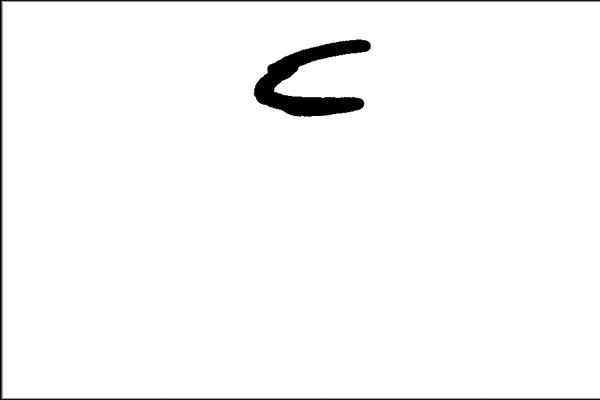C: (249, 32, 373, 123)
